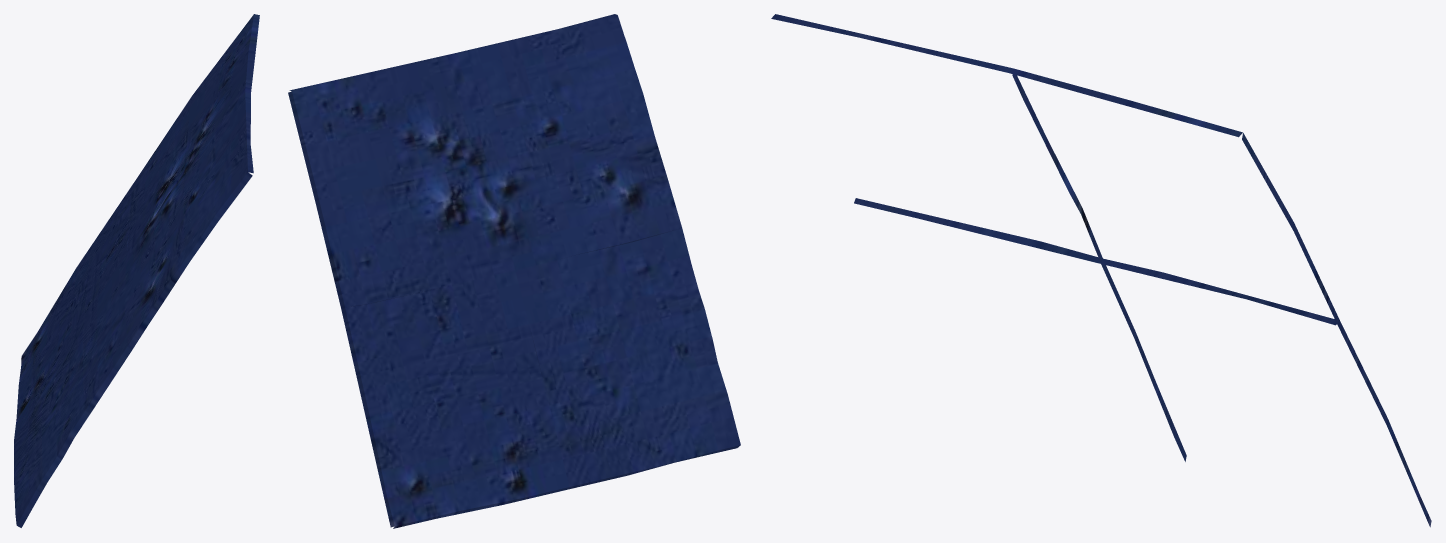
The picture shows the model from 3 angles, left to right: view 1: azimuth 30°, elevation 25°; view 2: azimuth 150°, elevation 25°; view 3: azimuth 270°, elevation 25°; orthographic projection. The views are drawn at different scales.
Bounding box in the file's own units: 559979 × 544417 × 632228.
Materials: 1 (1 with a texture image).
